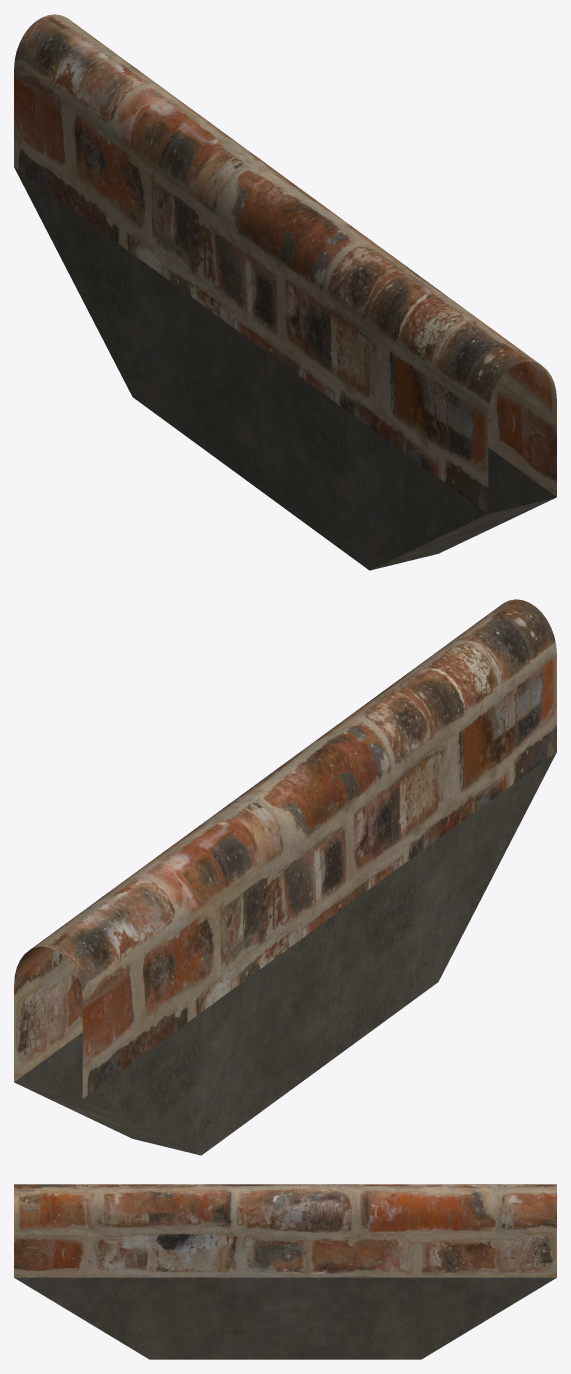
The model's file is tunnel 12m water.fbx.
The picture shows the model from 3 angles, top to bottom: view 1: azimuth 30°, elevation 25°; view 2: azimuth 150°, elevation 25°; view 3: azimuth 270°, elevation 25°; orthographic projection. The views are drawn at different scales.
Parts seen in each view (by area): view 1: tunnel 12m water, tunnel floor 12m water; view 2: tunnel 12m water, tunnel floor 12m water; view 3: tunnel 12m water, tunnel floor 12m water.
Part boxes in pixels (x1,y1,x2,y2): tunnel 12m water: (14, 14, 556, 513); tunnel floor 12m water: (14, 167, 556, 570); tunnel 12m water: (14, 599, 556, 1098); tunnel floor 12m water: (14, 752, 556, 1155); tunnel 12m water: (14, 1184, 556, 1277); tunnel floor 12m water: (14, 1277, 556, 1359).
Size of the model in its own units: 101 by 1200 by 400.
